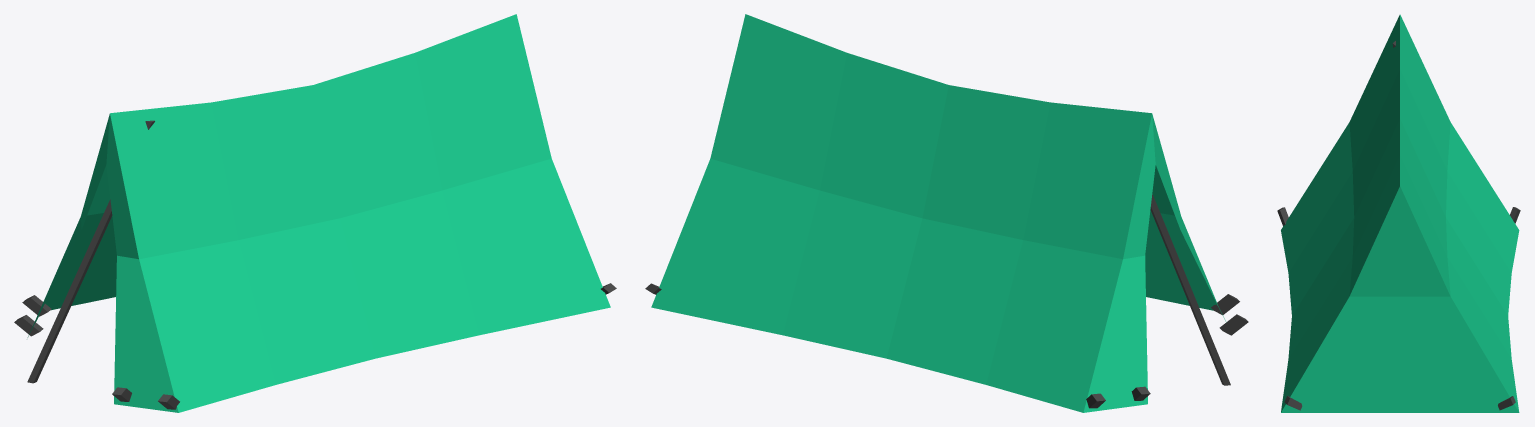
The model's file is tent.fbx.
3 views of the same model, side by side, from view 1: azimuth 30°, elevation 25°; view 2: azimuth 150°, elevation 25°; view 3: azimuth 270°, elevation 25° (orthographic). The views are drawn at different scales.
Visible parts, largest first — view 1: Cube, Cube.007; view 2: Cube, Cube.007; view 3: Cube.
Part boxes in pixels (bbox=[...]): Cube: bbox=[27, 14, 610, 412]; Cube.007: bbox=[27, 120, 154, 383]; Cube: bbox=[651, 14, 1226, 412]; Cube.007: bbox=[1150, 194, 1230, 385]; Cube: bbox=[1281, 14, 1519, 412].
Bounding box in the file's own units: 659 × 304 × 307.
